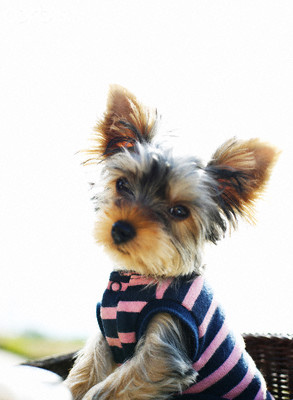dog: (62, 83, 282, 400)
